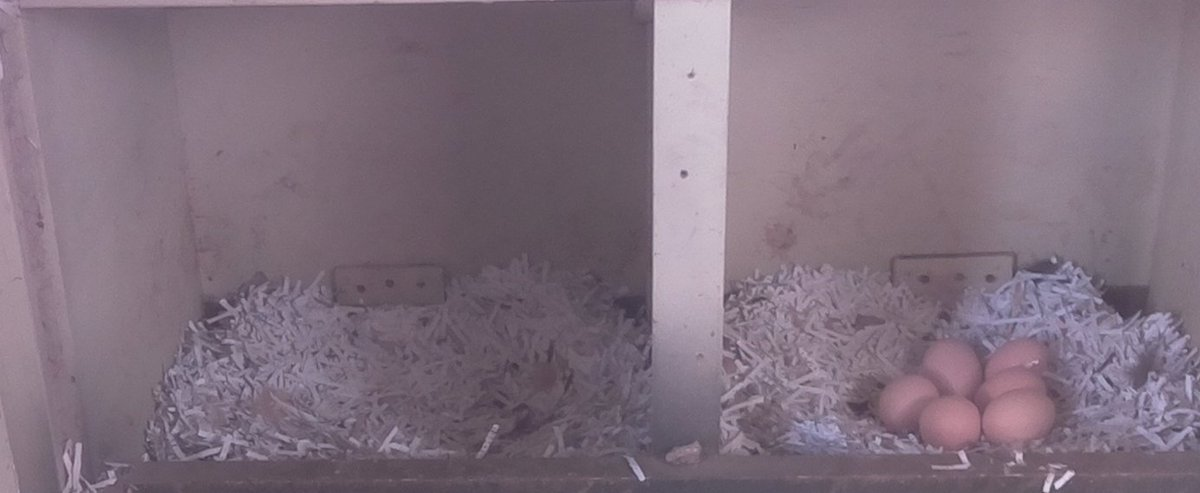egg: (980, 386, 1060, 448), (918, 332, 984, 400), (872, 370, 938, 437), (916, 391, 986, 452), (978, 336, 1055, 377), (979, 368, 1053, 400)
